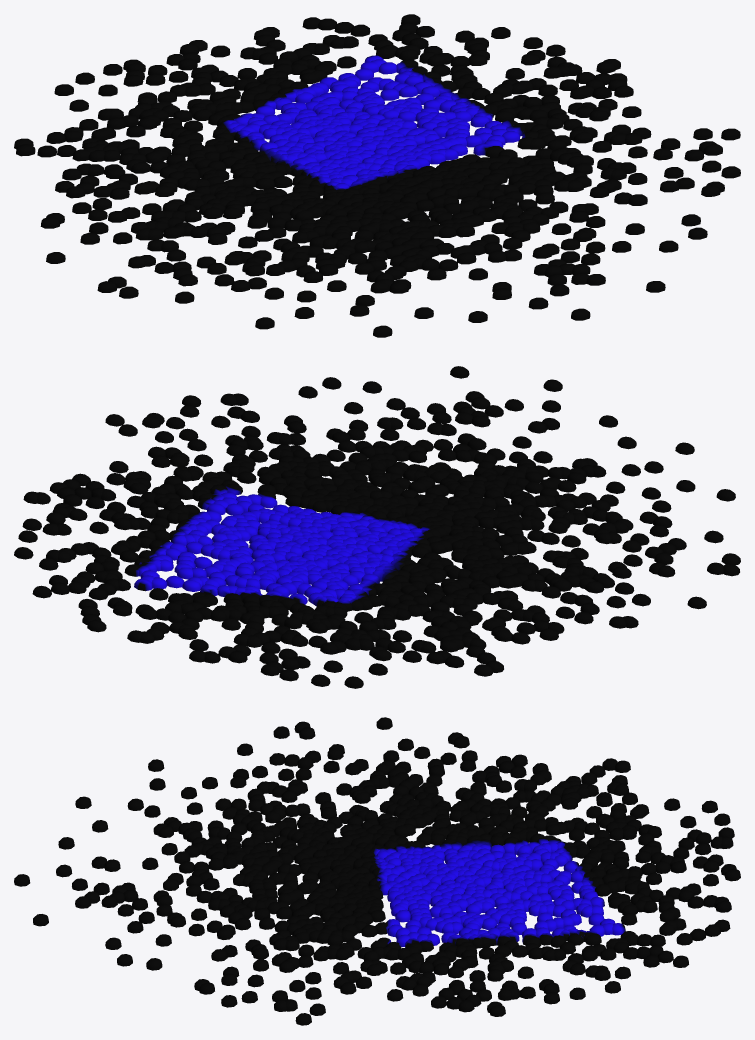
Rendered from Applied Flat Grass.fbx.
3 renders of one model, top to bottom at view 1: azimuth 30°, elevation 25°; view 2: azimuth 150°, elevation 25°; view 3: azimuth 270°, elevation 25°, orthographic. The views are drawn at different scales.
Visible parts, largest first — view 1: Applied Flat Grass; view 2: Applied Flat Grass; view 3: Applied Flat Grass.
Part boxes in pixels (x1=…): Applied Flat Grass: x1=14, y1=14, x2=740, y2=337; Applied Flat Grass: x1=14, y1=366, x2=740, y2=688; Applied Flat Grass: x1=14, y1=717, x2=740, y2=1025.
Size of the model in its own units: 3144 by 31.65 by 3179.
